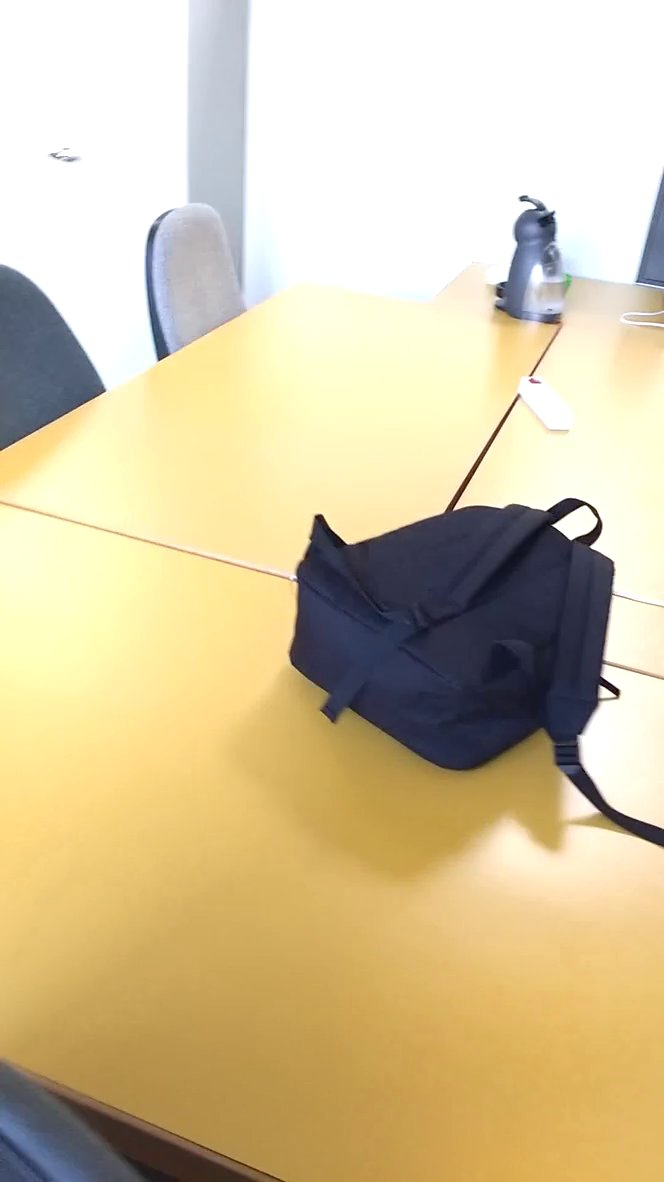bag: (279, 478, 664, 849)
chair: (130, 197, 269, 370)
